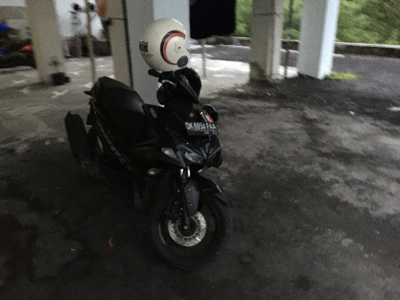moto: (73, 65, 231, 273)
